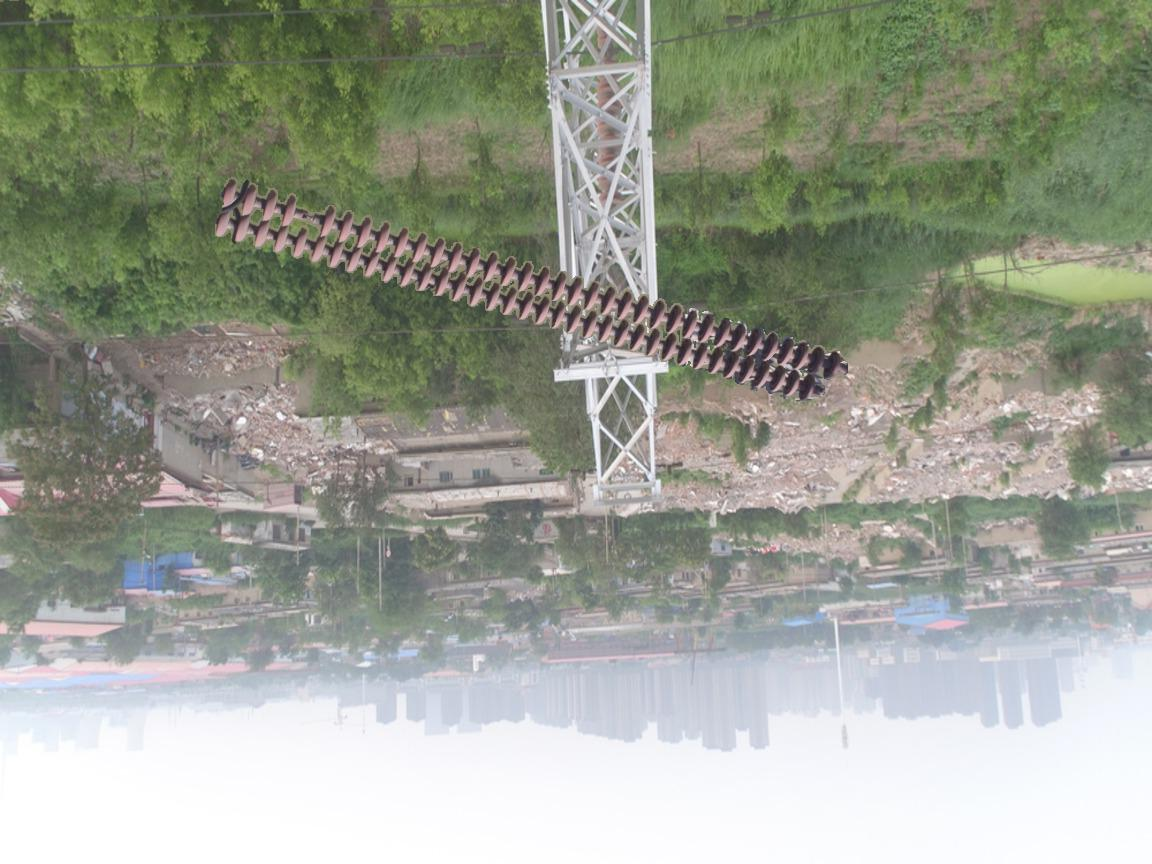insulator: (206, 173, 856, 403), (592, 27, 623, 204)
insulator_stringdrop: (276, 190, 339, 241)
